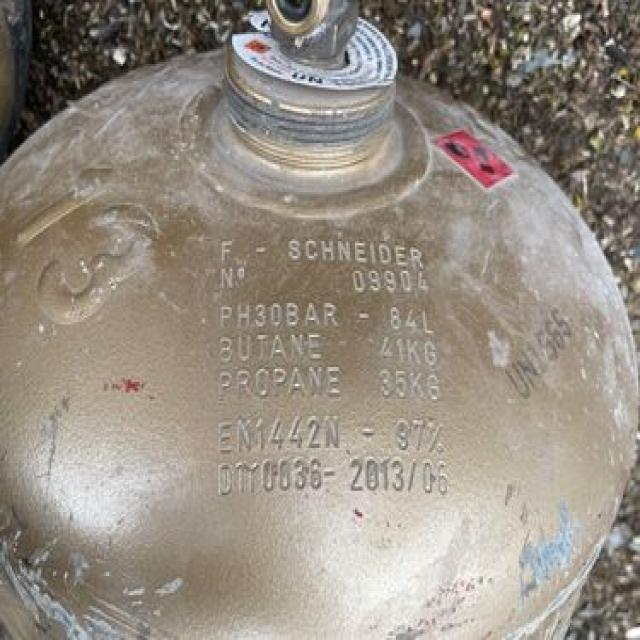ocr: (215, 456, 329, 504), (216, 411, 345, 453), (216, 362, 346, 402), (349, 458, 456, 503), (214, 300, 340, 333), (286, 238, 429, 266), (216, 328, 322, 362), (380, 366, 445, 407), (351, 266, 434, 298), (391, 413, 448, 457), (378, 333, 443, 371), (214, 237, 248, 292), (386, 302, 434, 338), (358, 424, 376, 443), (358, 311, 374, 329)
